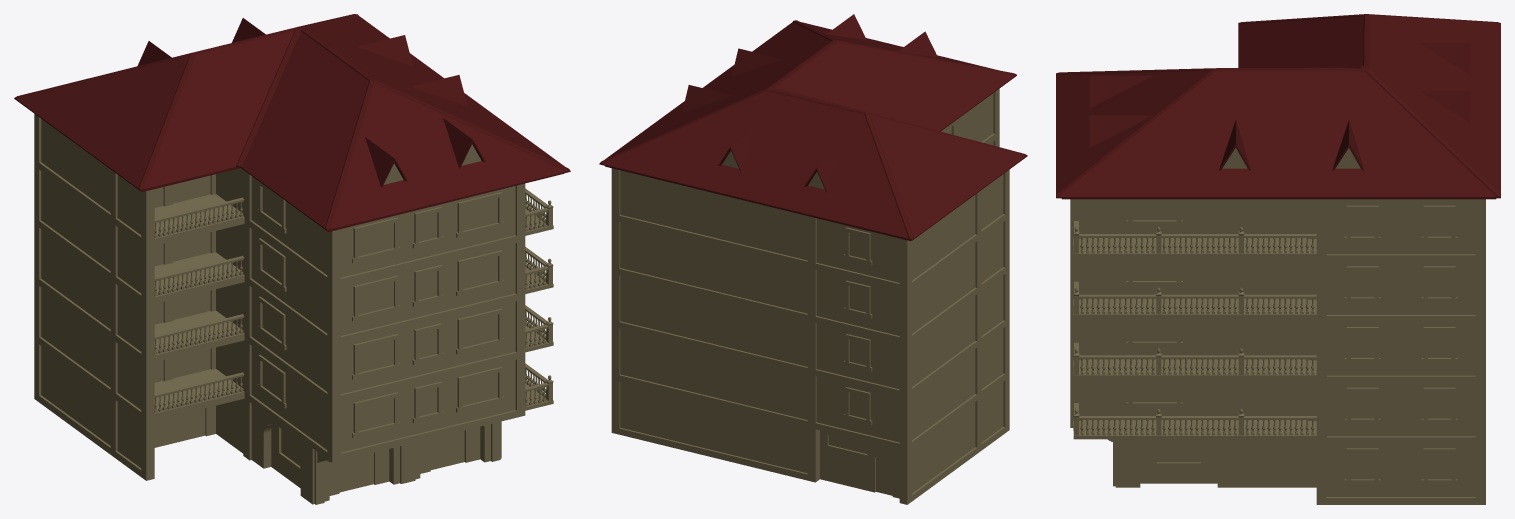
Rendered from Hotel.fbx.
3 renders of one model, left to right at view 1: azimuth 30°, elevation 25°; view 2: azimuth 150°, elevation 25°; view 3: azimuth 270°, elevation 25°, orthographic. The views are drawn at different scales.
Visible parts, largest first — view 1: polySurface651 (×2); view 2: polySurface651 (×2); view 3: polySurface651 (×2).
Boxes of the visible parts, bbox=[...] form: polySurface651 (×2): bbox=[14, 14, 570, 504]; polySurface651 (×2): bbox=[599, 14, 1027, 504]; polySurface651 (×2): bbox=[1056, 14, 1500, 504].
Size of the model in its own units: 31.07 by 31.44 by 33.58.
